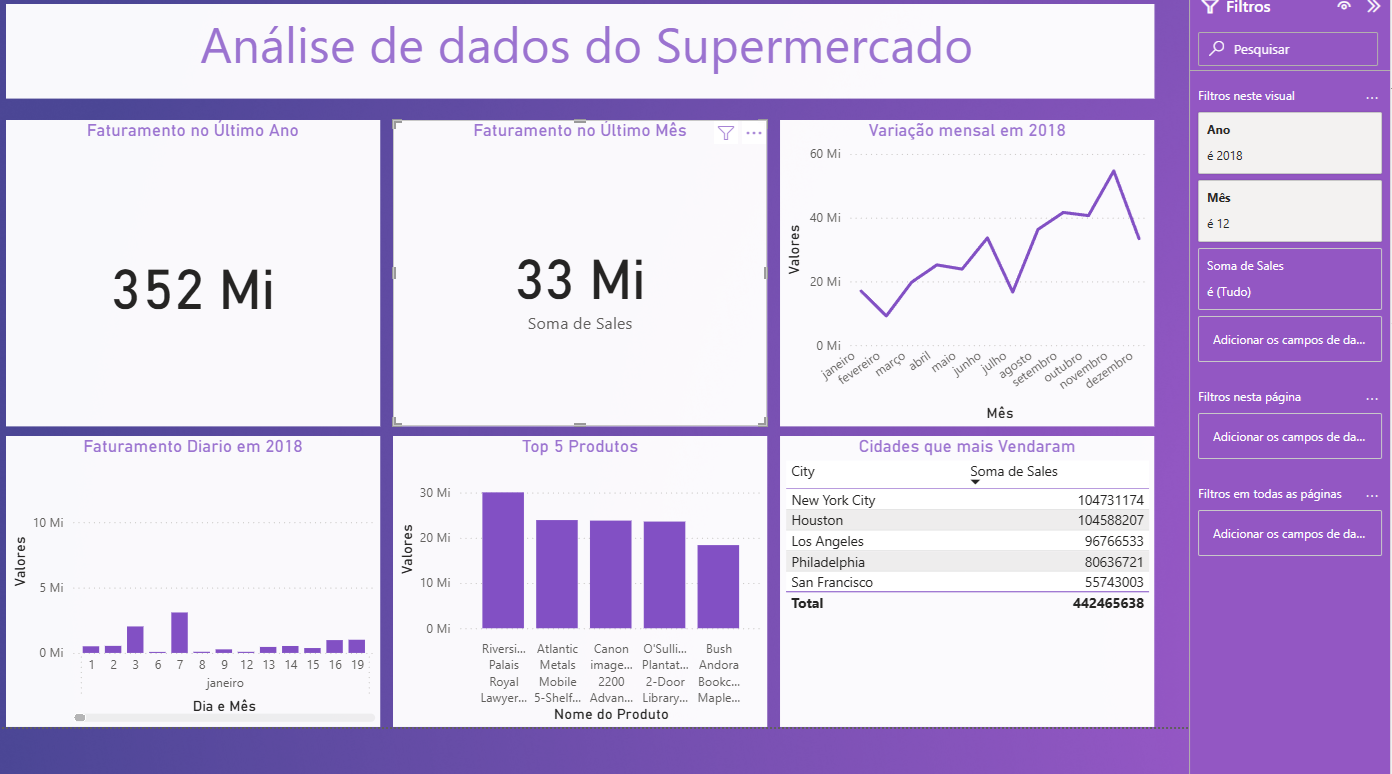

What the dashboard file says about the page in this screenshot:
{"tool":"powerbi","page":{"name":"Página 1","canvas":[1280,720],"ordinal":0},"visuals":[{"type":"card","title":"Faturamento no Último Ano","fields":{"Values":["Sum(train.Sales)"]},"box":[129.4,129.4,363.8,297.6],"z":0},{"type":"textbox","box":[129.4,16.5,1116.6,92.4],"z":1000},{"type":"actionButton","box":[0,0,100,40],"z":2000},{"type":"card","title":"Faturamento no Último Mês","fields":{"Values":["Sum(train.Sales)","select","select1"]},"box":[506,129,364,298],"z":3000},{"type":"lineChart","title":"Variação mensal em 2018","fields":{"Y":["Sum(train.Sales)"],"Category":["train.Order Date.Variation.Hierarquia de datas.Mês"]},"box":[882,129,364,298],"z":4000},{"type":"columnChart","title":"Faturamento Diário em 2018","fields":{"Y":["Sum(train.Sales)"],"Category":["train.Order Date.Variation.Hierarquia de datas.Mês","train.Order Date.Variation.Hierarquia de datas.Dia"]},"box":[129,437,364,283],"z":5000},{"type":"tableEx","title":"Cidades que mais Vendaram","fields":{"Values":["train.City","Sum(train.Sales)"]},"box":[882,437,364,283],"z":6000},{"type":"columnChart","title":"Top 5 Produtos","fields":{"Y":["Sum(train.Sales)"],"Category":["train.Product Name"]},"box":[506,437,364,283],"z":7000}]}

Visuals, with their boxes on the page's 1280x720 design canvas (x1, y1, x2, y2). These are canvas units, not pixel positions in the 1392x774 screenshot, which may show the page scaled, cropped or inside an application window:
"Faturamento no Último Ano" card: <bbox>129, 129, 493, 427</bbox>
textbox: <bbox>129, 16, 1246, 109</bbox>
actionButton: <bbox>0, 0, 100, 40</bbox>
"Faturamento no Último Mês" card: <bbox>506, 129, 870, 427</bbox>
"Variação mensal em 2018" lineChart: <bbox>882, 129, 1246, 427</bbox>
"Faturamento Diário em 2018" columnChart: <bbox>129, 437, 493, 720</bbox>
"Cidades que mais Vendaram" tableEx: <bbox>882, 437, 1246, 720</bbox>
"Top 5 Produtos" columnChart: <bbox>506, 437, 870, 720</bbox>
